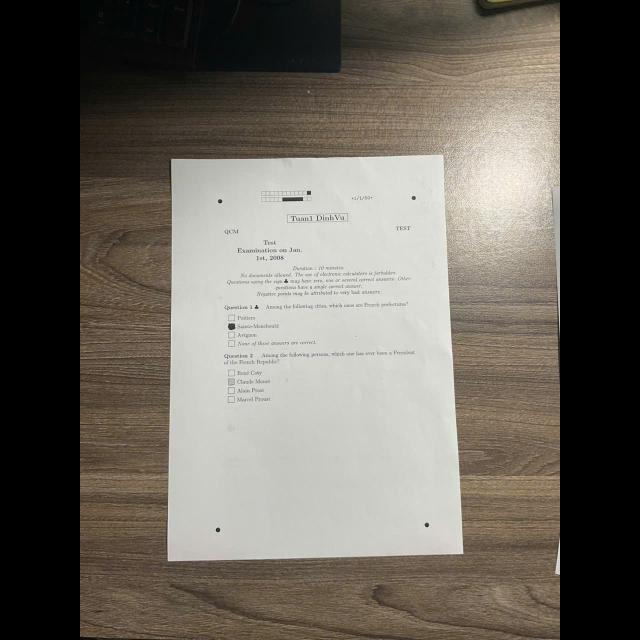Markers: (424, 522, 430, 528), (215, 527, 221, 533), (218, 199, 222, 203), (412, 196, 416, 200)
